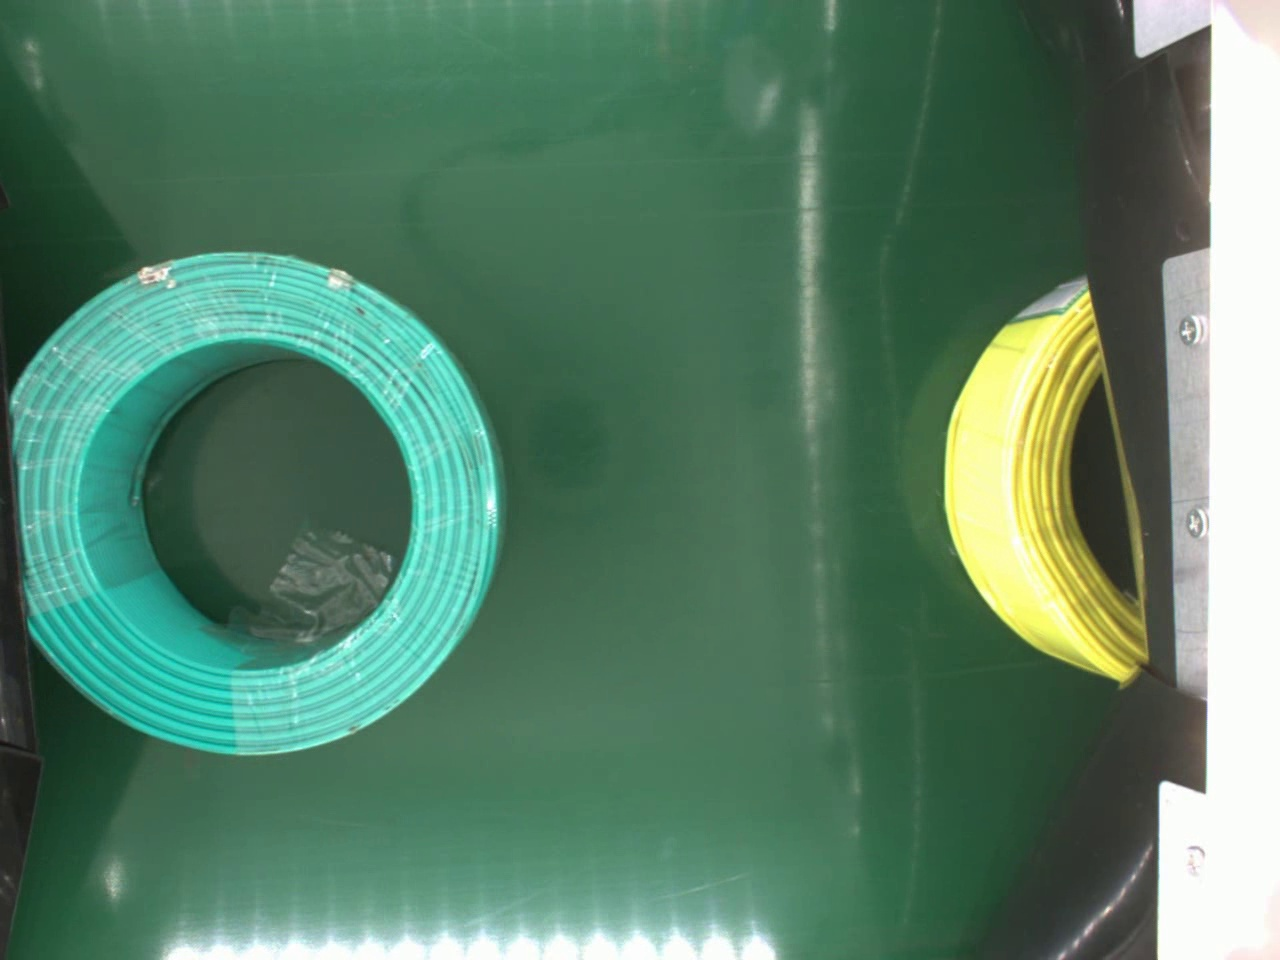green: (6, 249, 511, 757)
yellow: (942, 270, 1139, 682)
